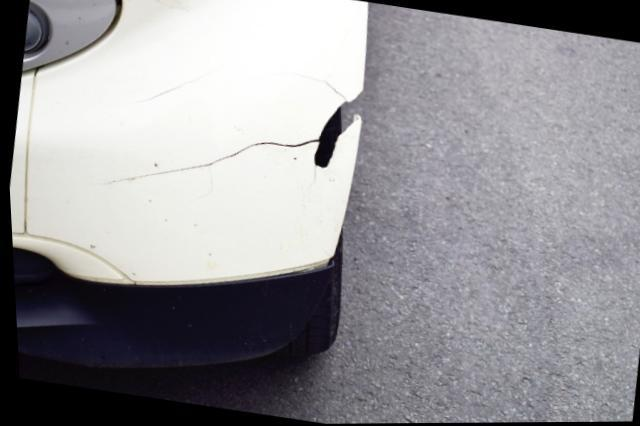crack: (98, 73, 361, 201), (131, 66, 222, 105)
